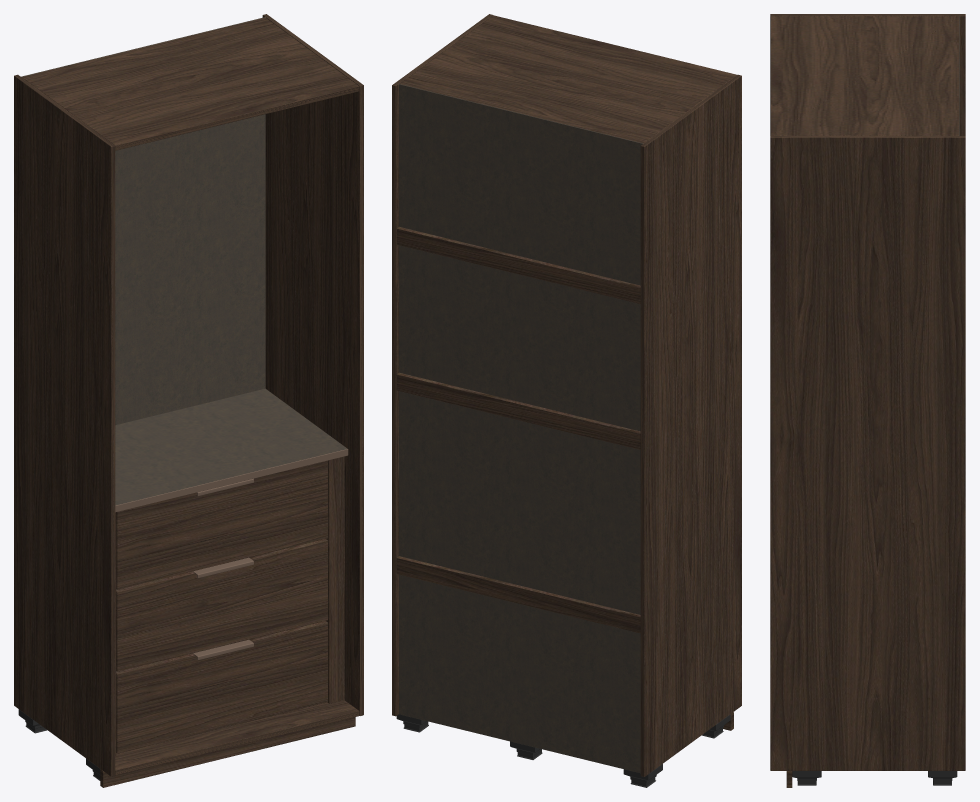
The picture shows the model from 3 angles, left to right: view 1: azimuth 30°, elevation 25°; view 2: azimuth 150°, elevation 25°; view 3: azimuth 270°, elevation 25°; orthographic projection.
Visible parts, largest first — view 1: HK1001034, BONG_01; view 2: HK1001034; view 3: HK1001034.
Boxes of the visible parts, x1,y1,x2,y2 form: HK1001034: (14,14,363,787); BONG_01: (193,478,253,660); HK1001034: (392,14,741,787); HK1001034: (770,14,965,787).
Size of the model in its own units: 0.9 by 2.2 by 0.6.
6 materials, 5 textured.
